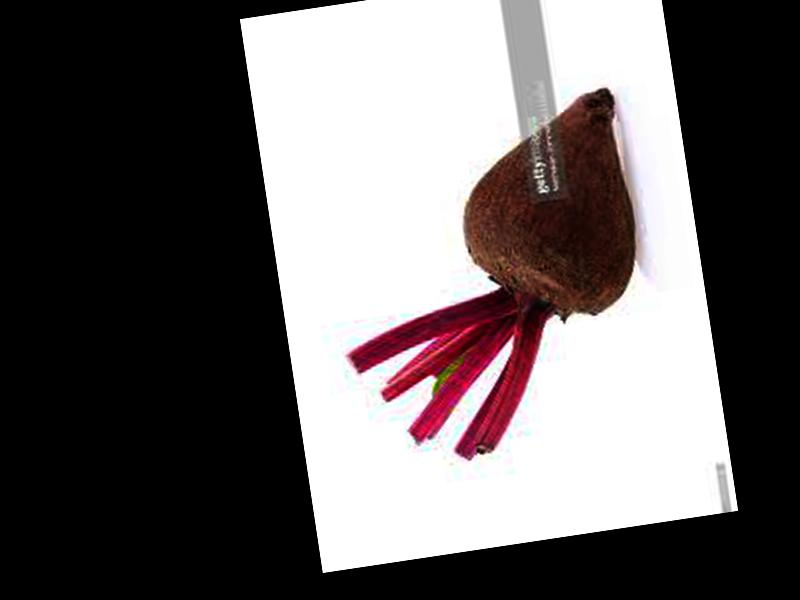Beet: (315, 86, 664, 475)
